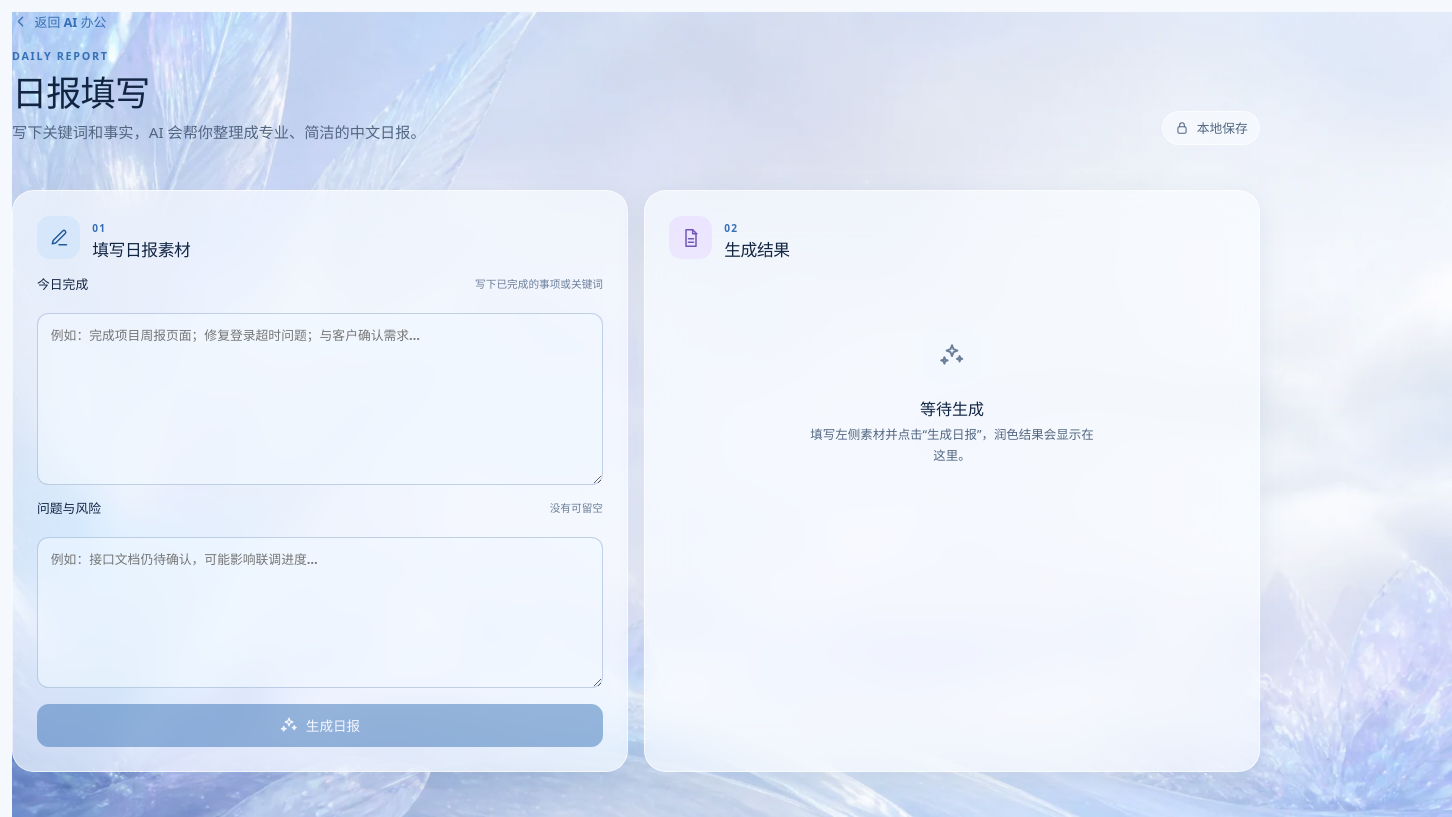
Test case: AI Office daily report flow › generates a separate result, refreshes history, and reports clipboard success
The width and height of the screenshot is (1452, 817).
Step 1. Type "完成日报页面" into the text box labelled "今日完成" → [320, 399], box [37,313,603,485]
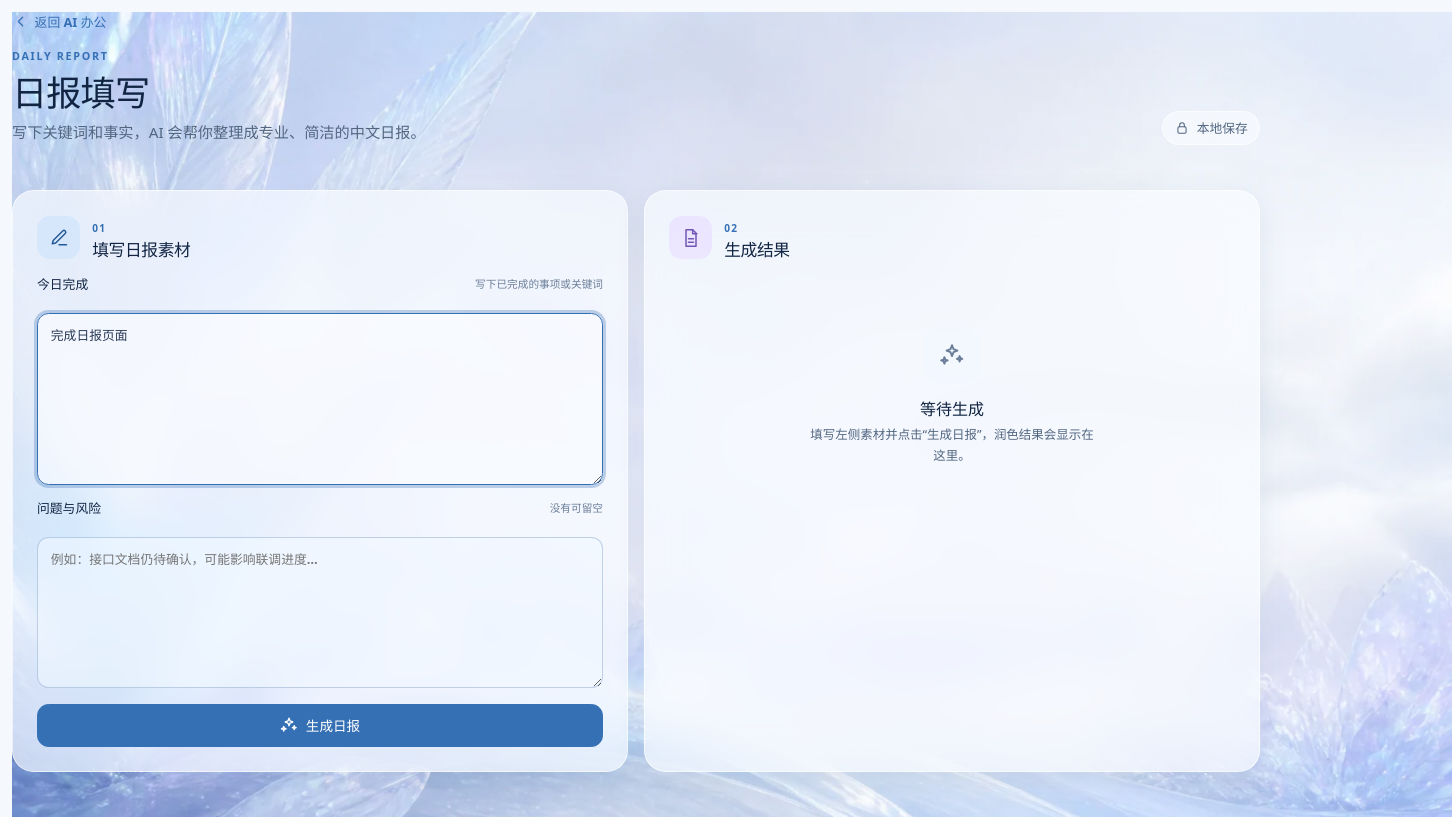
Step 2. Type "等待接口权限" into the text box labelled "问题与风险" → [320, 612], box [37,537,603,688]
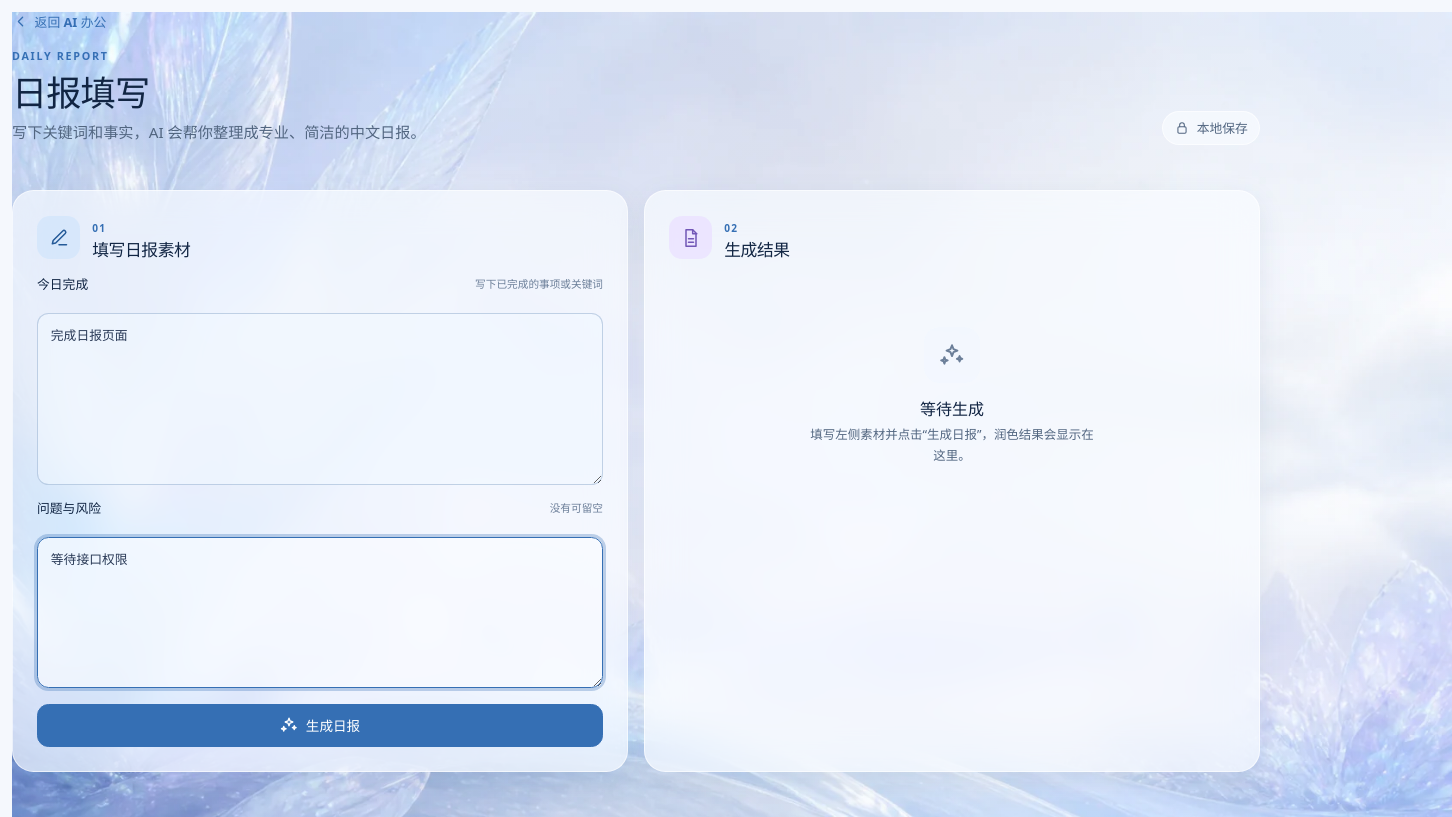
Step 3. Click the button "生成日报" → [320, 725], box [37,704,603,747]
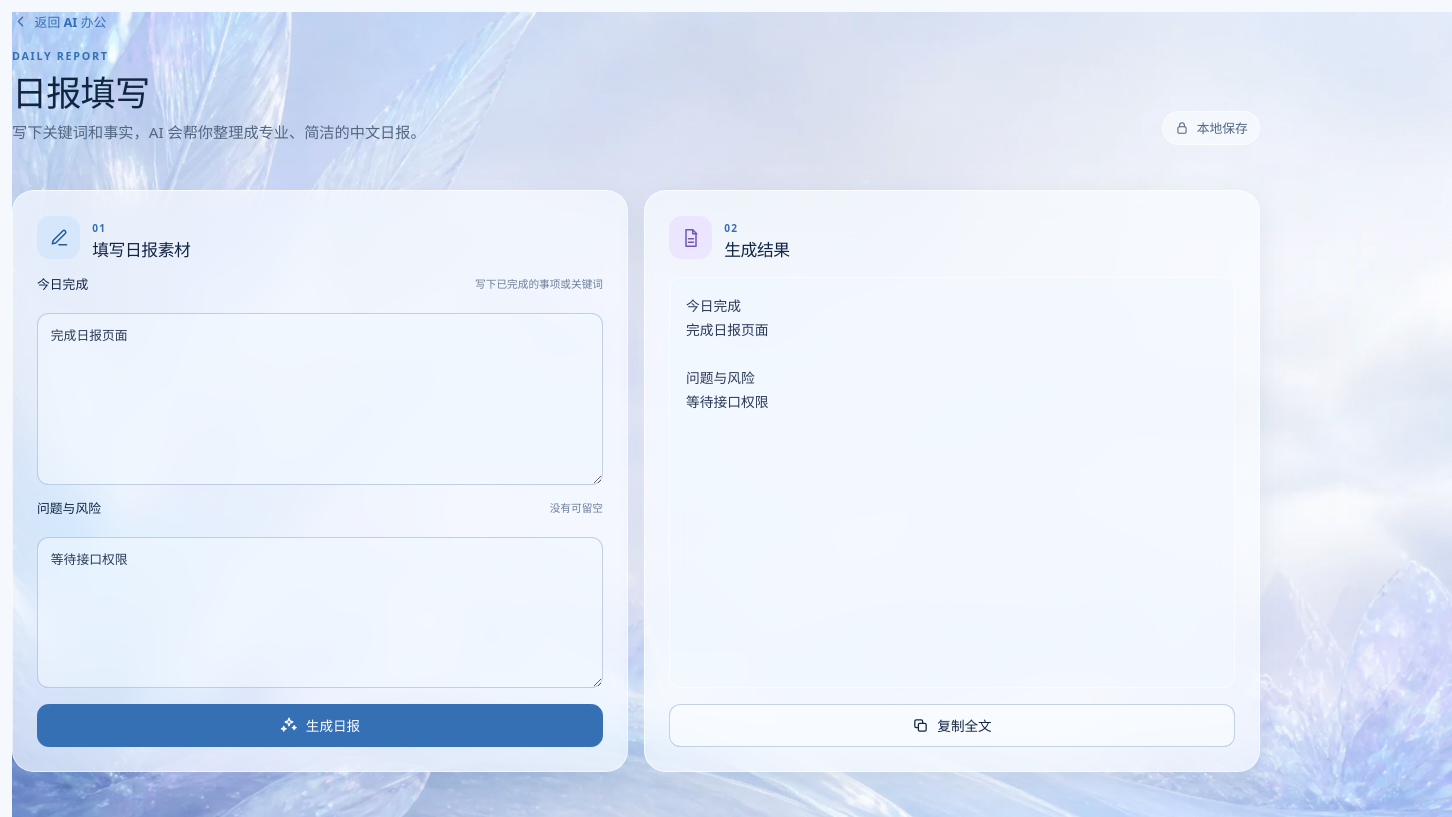
Now the element "生成结果" shows "完成日报页面", box [686,296,768,411]
Now the element "生成结果" shows "等待接口权限", box [686,296,768,411]
Step 4. Click the button "复制全文" → [952, 725], box [669,704,1235,747]
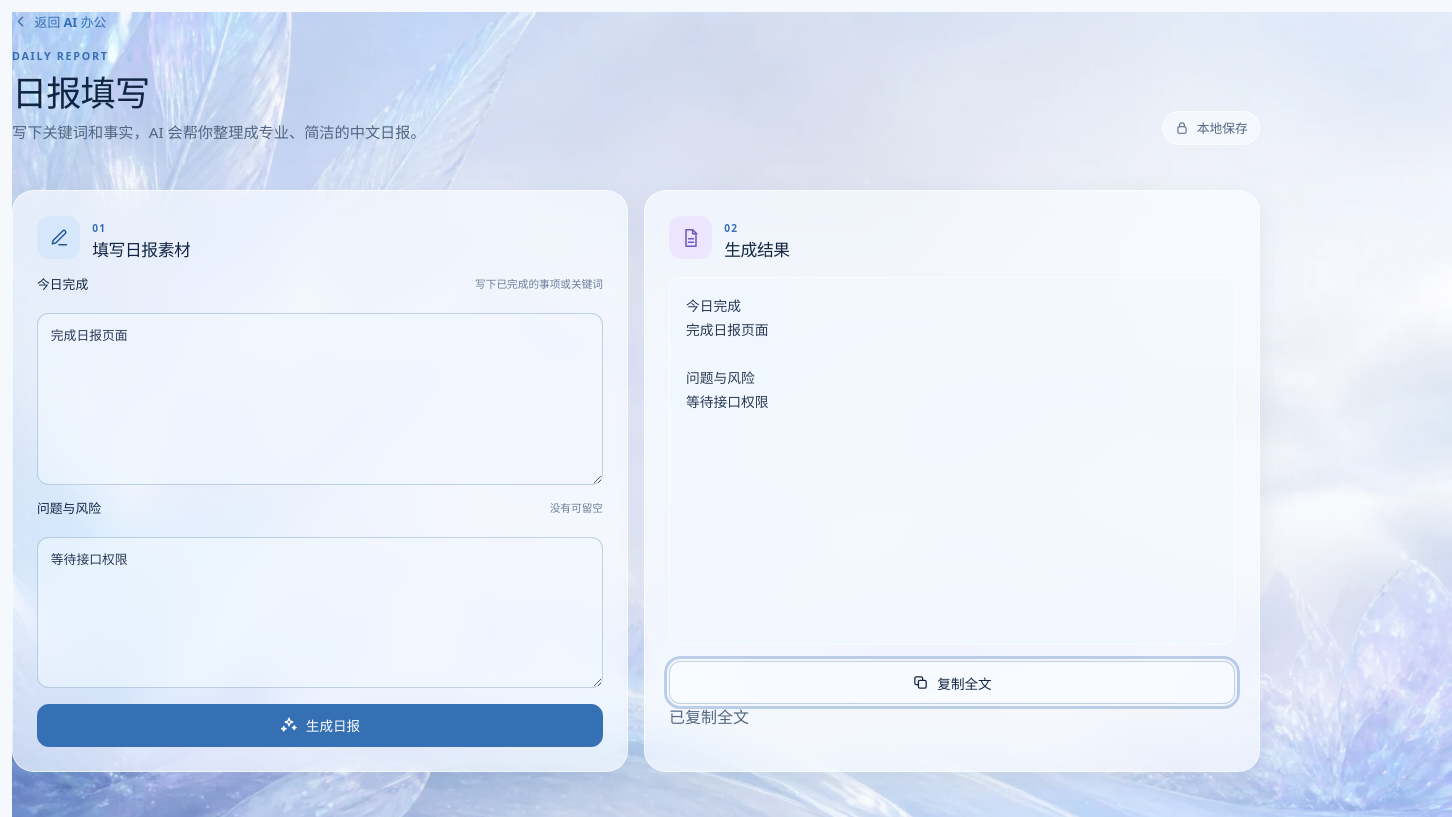
Now the text "已复制全文" is shown, box [669,706,749,728]
